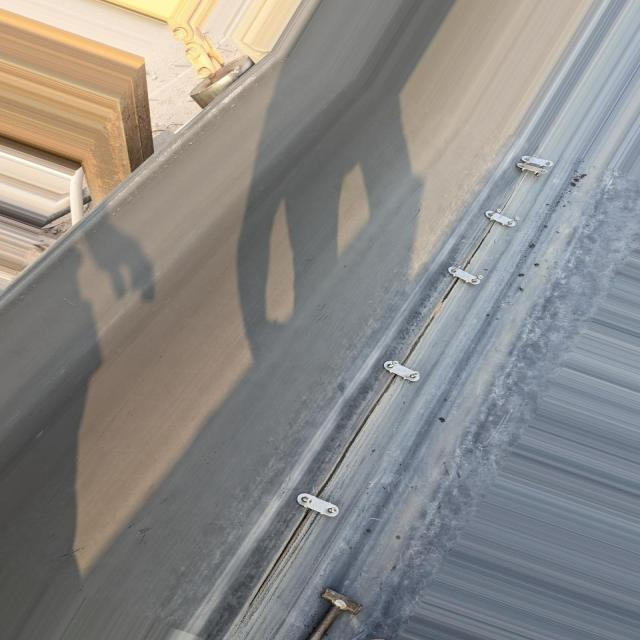Other Objects: (298, 589, 371, 640)
Roller: (188, 50, 256, 113)
patch work: (232, 148, 567, 621)
